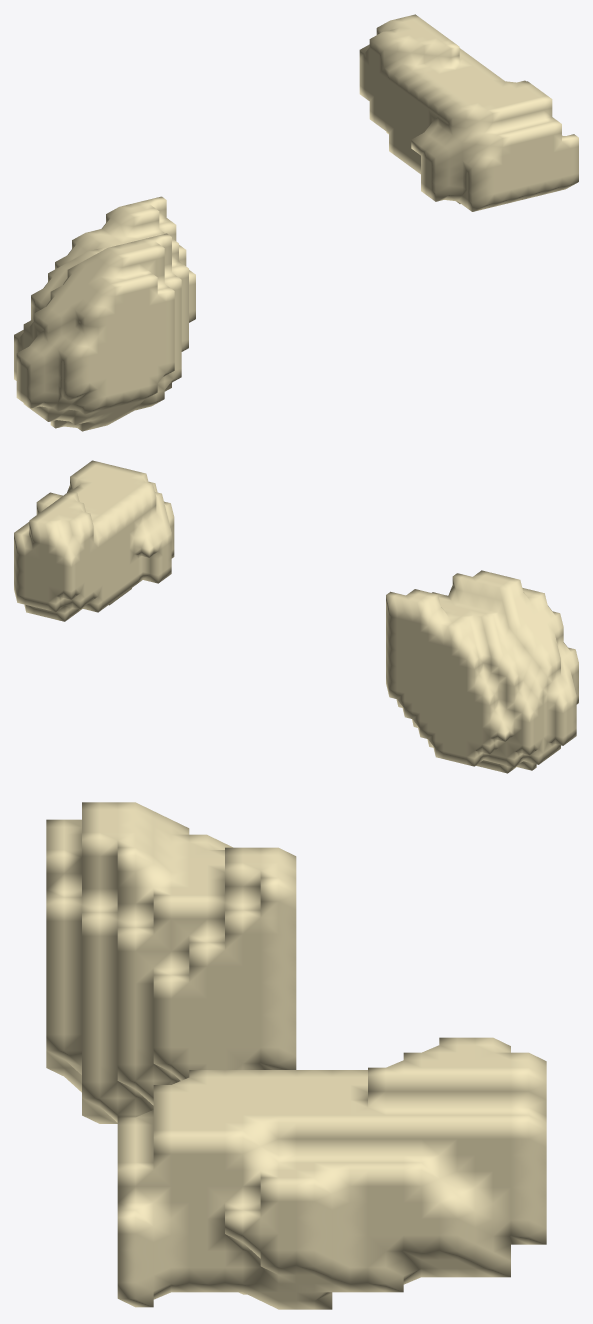
The model's file is region-20.glb.
3 views of the same model, one above another, from view 1: azimuth 30°, elevation 25°; view 2: azimuth 150°, elevation 25°; view 3: azimuth 270°, elevation 25° (orthographic). The views are drawn at different scales.
Visible parts, largest first — view 1: digimouse-volume:20; view 2: digimouse-volume:20; view 3: digimouse-volume:20.
Boxes of the visible parts, box(x1,y1,x2,y2) form: digimouse-volume:20: box(14, 14, 578, 431); digimouse-volume:20: box(14, 460, 578, 773); digimouse-volume:20: box(46, 802, 546, 1309).
Size of the model in its own units: 0.0064 by 0.0026 by 0.0028.
